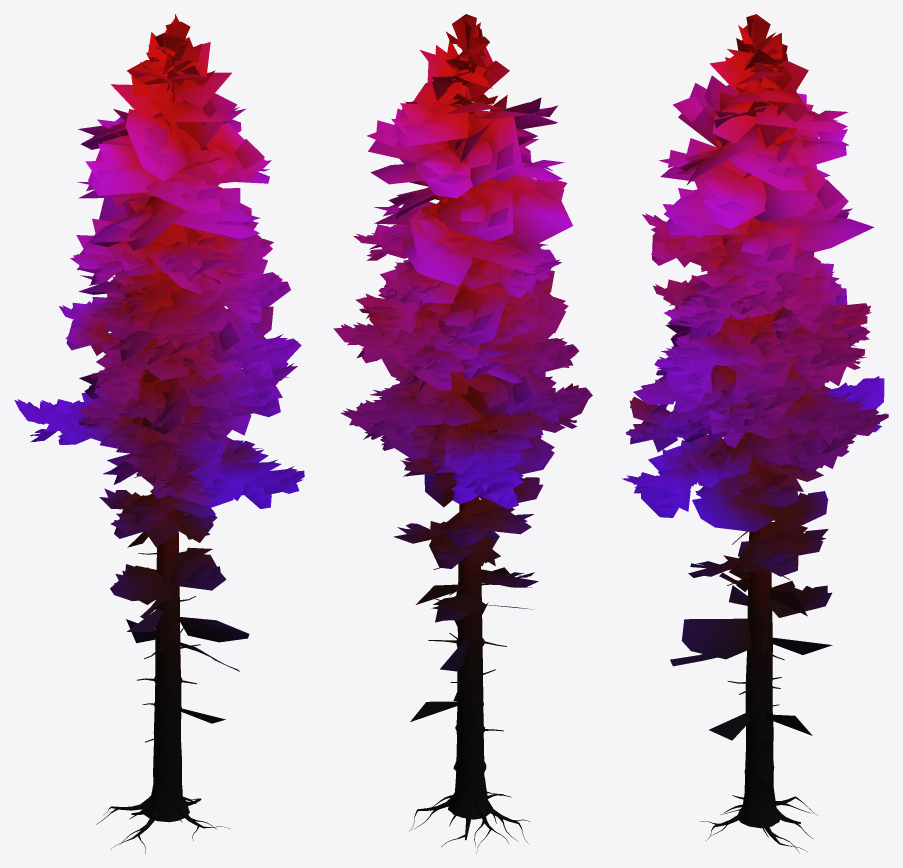
The model's file is Fir_05_Standalone_cheap.FBX.
The picture shows the model from 3 angles, left to right: view 1: azimuth 30°, elevation 25°; view 2: azimuth 150°, elevation 25°; view 3: azimuth 270°, elevation 25°; orthographic projection.
Parts seen in each view (by area): view 1: Fir_05_Standalone_LOD0; view 2: Fir_05_Standalone_LOD0; view 3: Fir_05_Standalone_LOD0.
Boxes of the visible parts, box(x1,y1,x2,y2) form: Fir_05_Standalone_LOD0: box(14, 14, 304, 853); Fir_05_Standalone_LOD0: box(333, 14, 592, 852); Fir_05_Standalone_LOD0: box(622, 14, 888, 852).
Size of what is drawn, in the model's own units: 5309 by 18539 by 5422.
